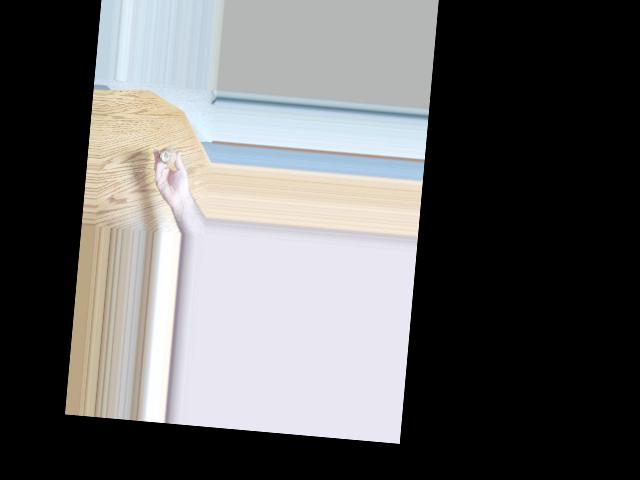sweet_potato: (159, 146, 179, 163)
